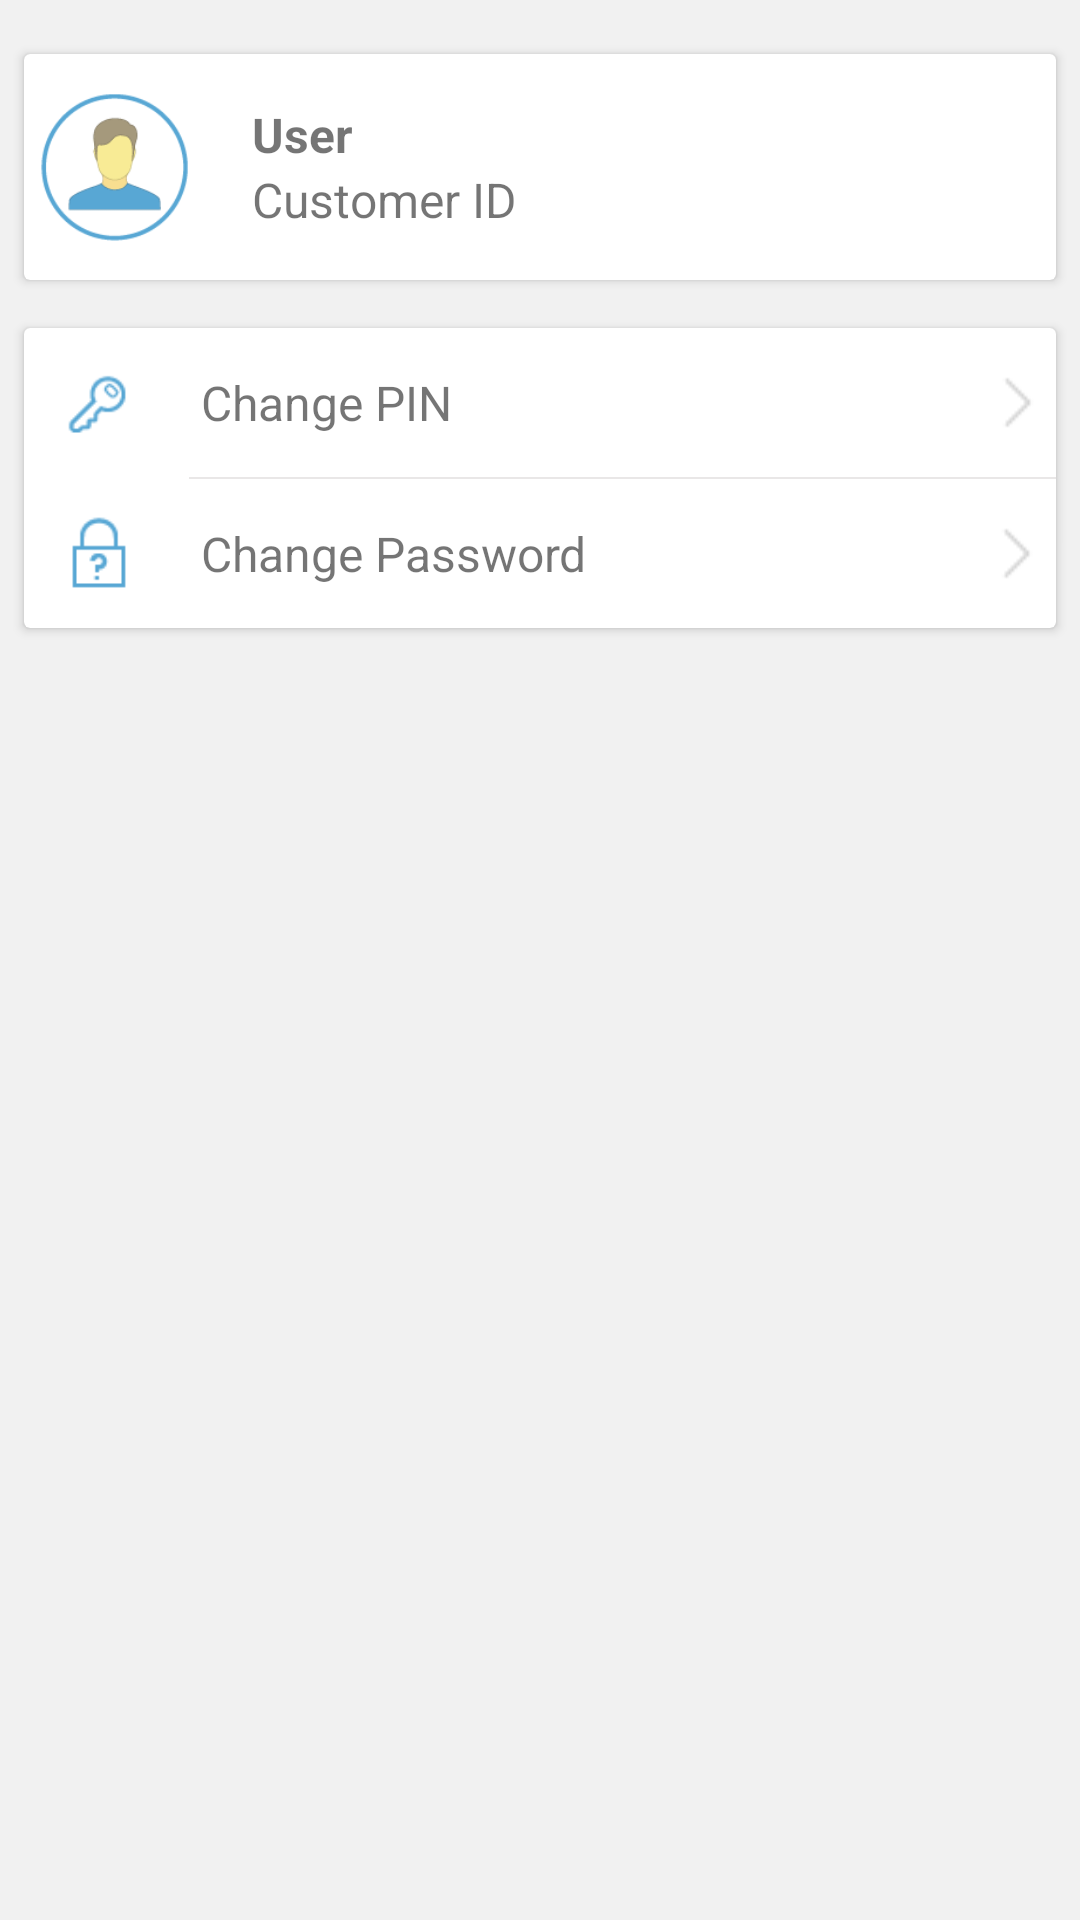

Icons on this 1080 × 1920 Android screen, each with its box as (x1, y1, x2, y2):
lock: (72, 517, 126, 588)
prof picc: (41, 94, 188, 241)
right arrow: (1006, 379, 1030, 426), (1005, 530, 1029, 577)
